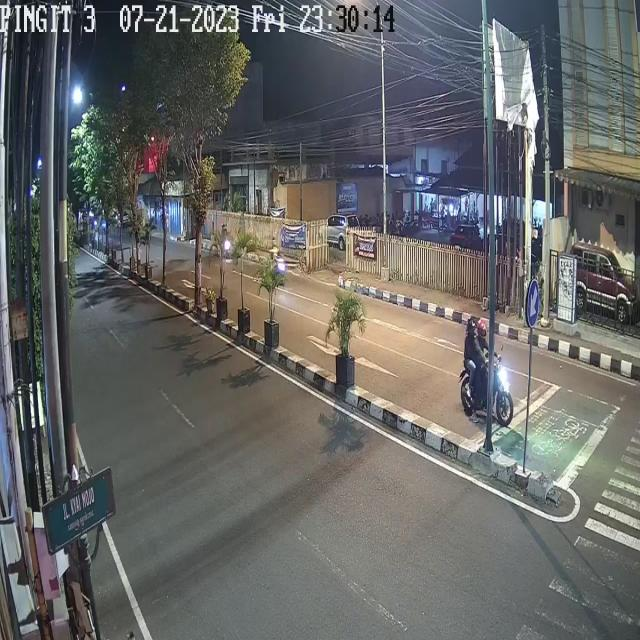motorcycle: (458, 313, 513, 426), (267, 234, 285, 287), (220, 218, 232, 259)
